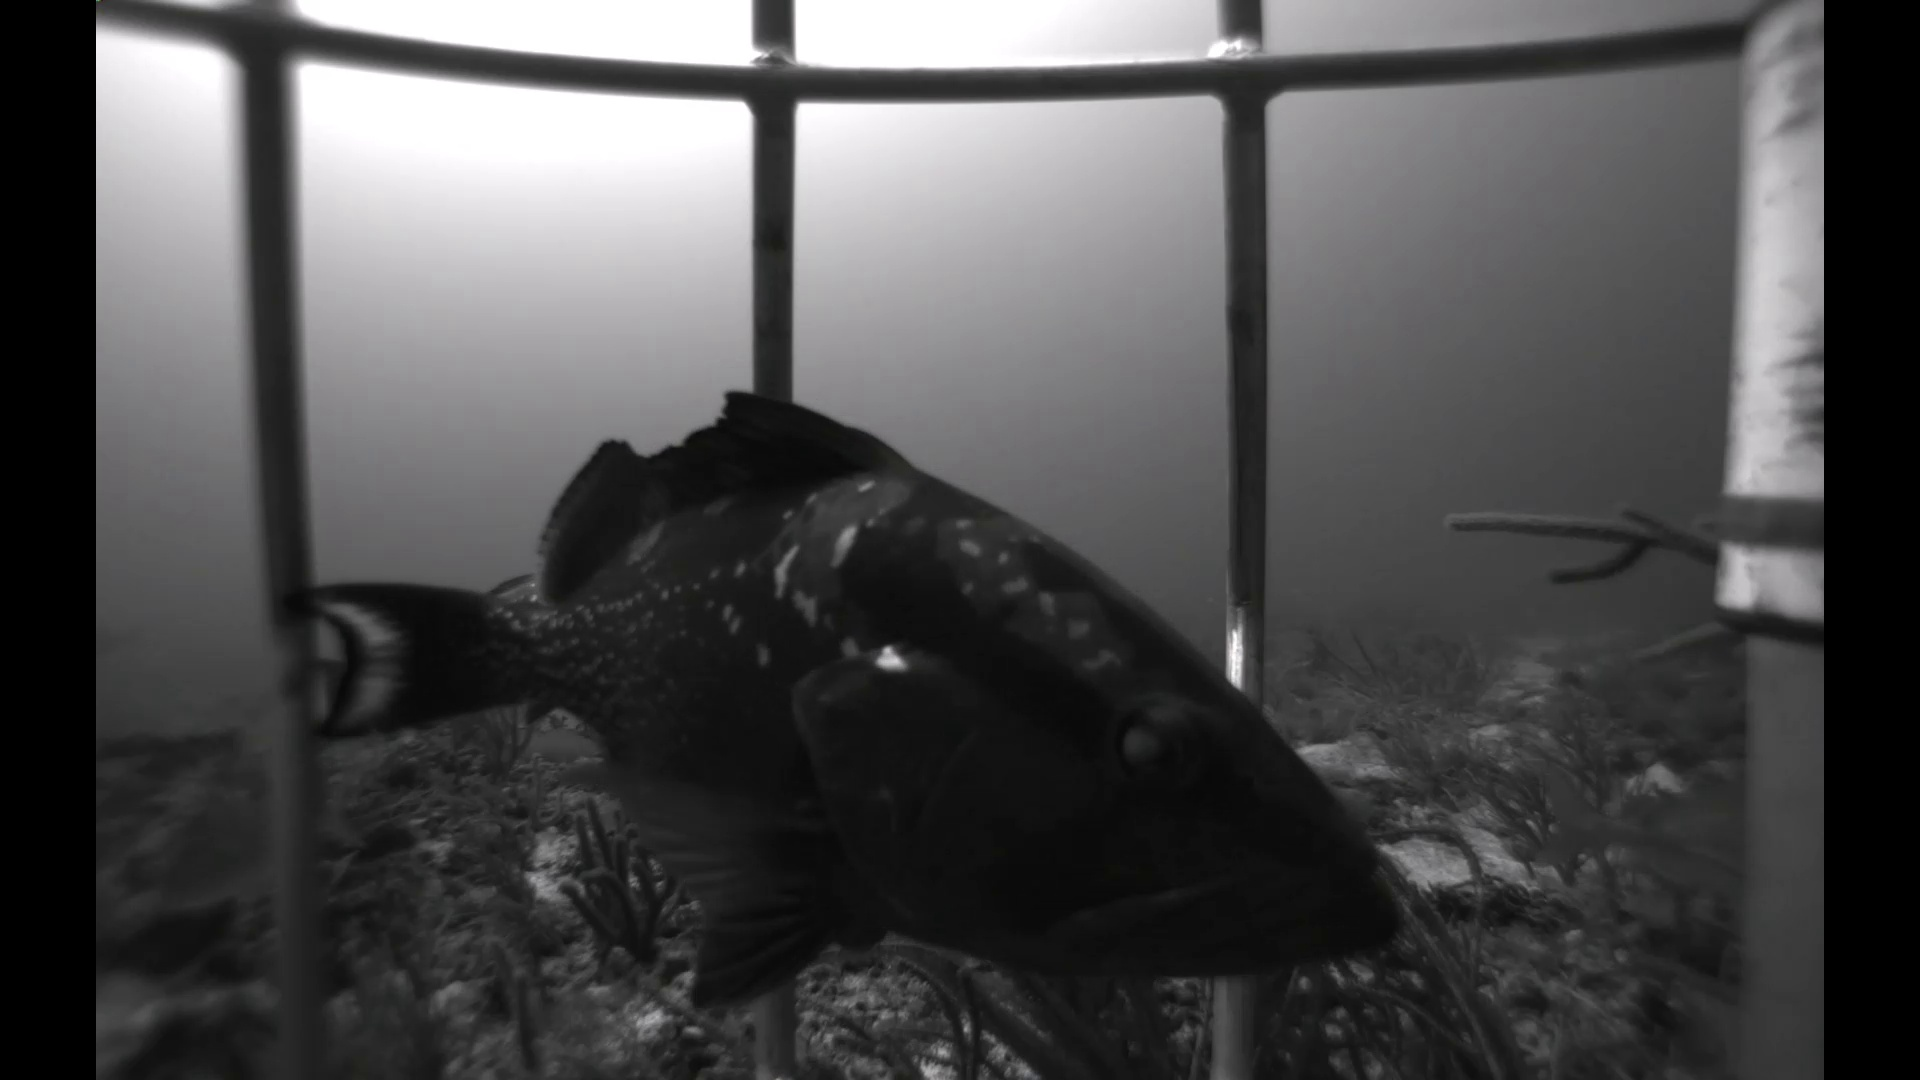CALAMUSNODOSUS-170210608: (1513, 732, 1756, 924), (144, 771, 375, 923)
EPINEPHELUSMORIO-170021211: (231, 327, 1416, 1035), (303, 556, 556, 746)
